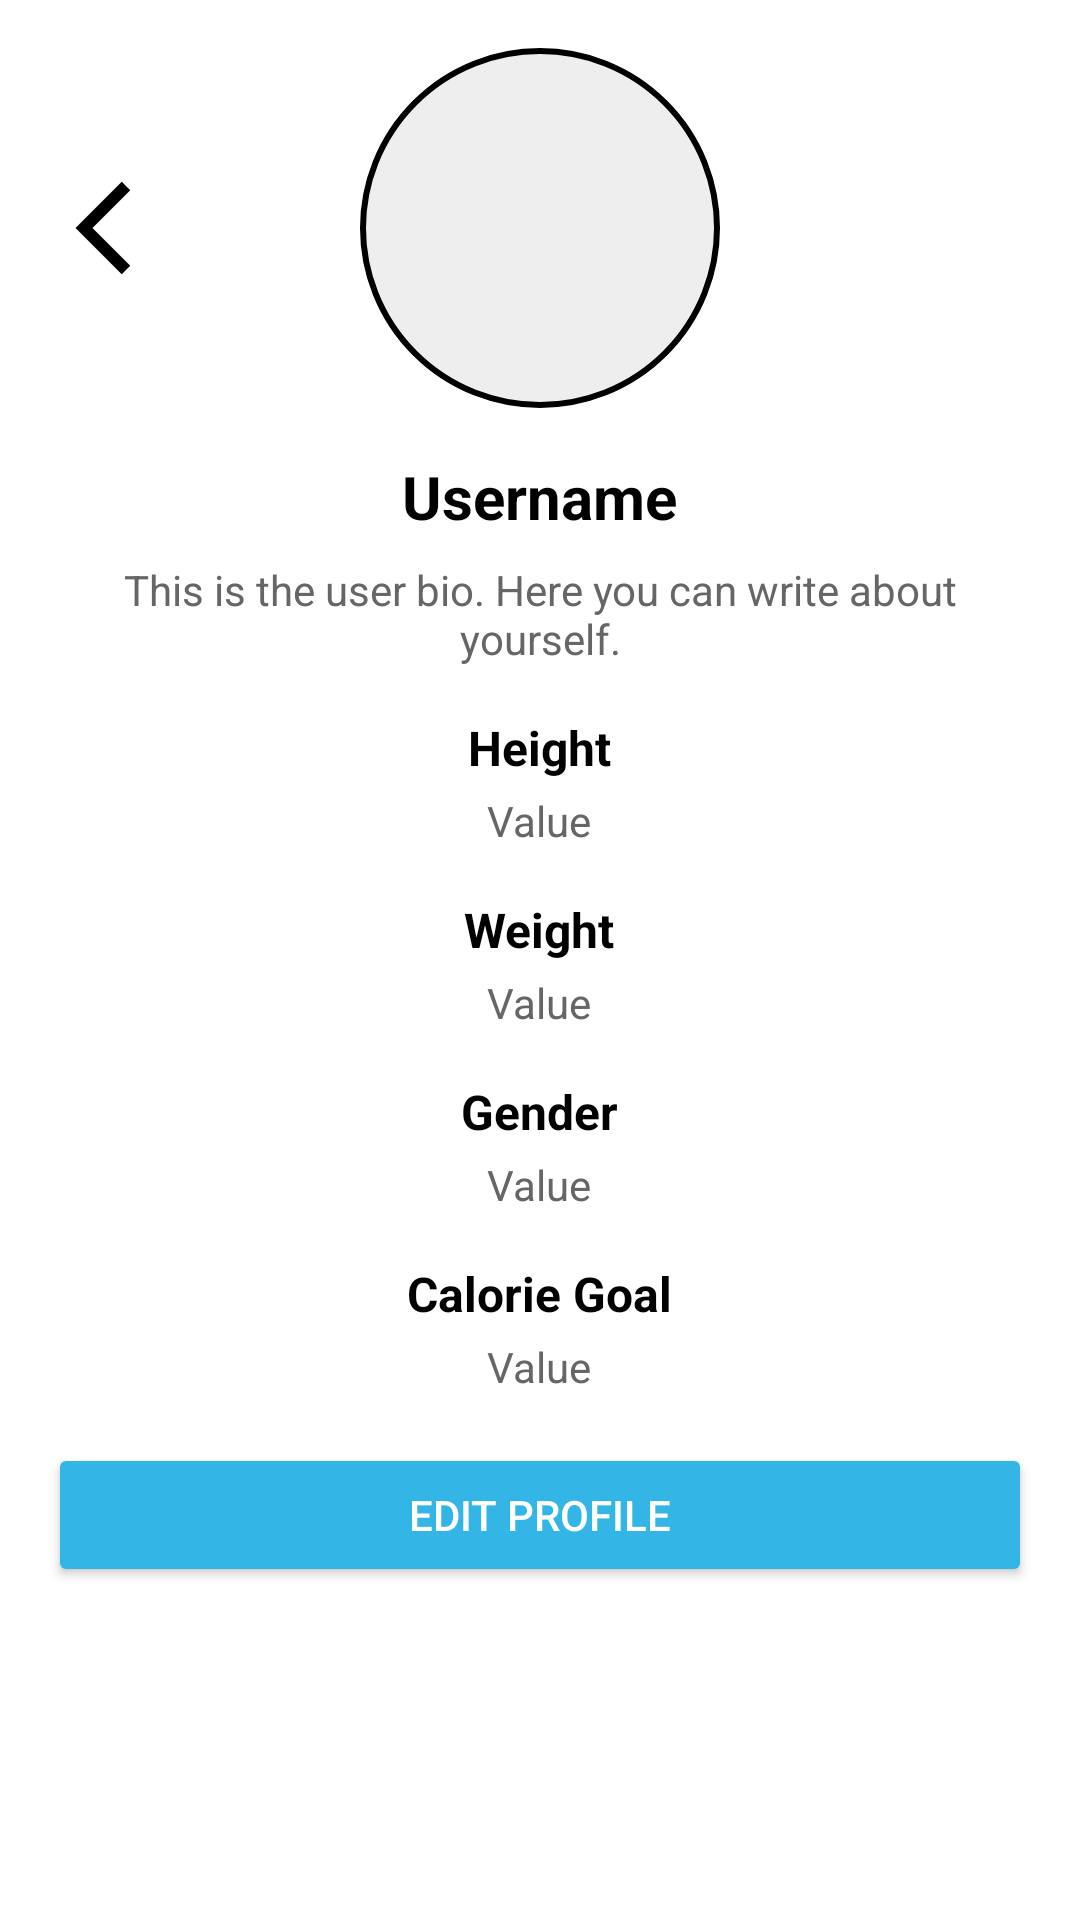

Locate icon controls on the screen. Image size 1080px x 1920px, boxes as box(x1, y1, x2, y2).
Back Button: box(75, 182, 130, 274)
